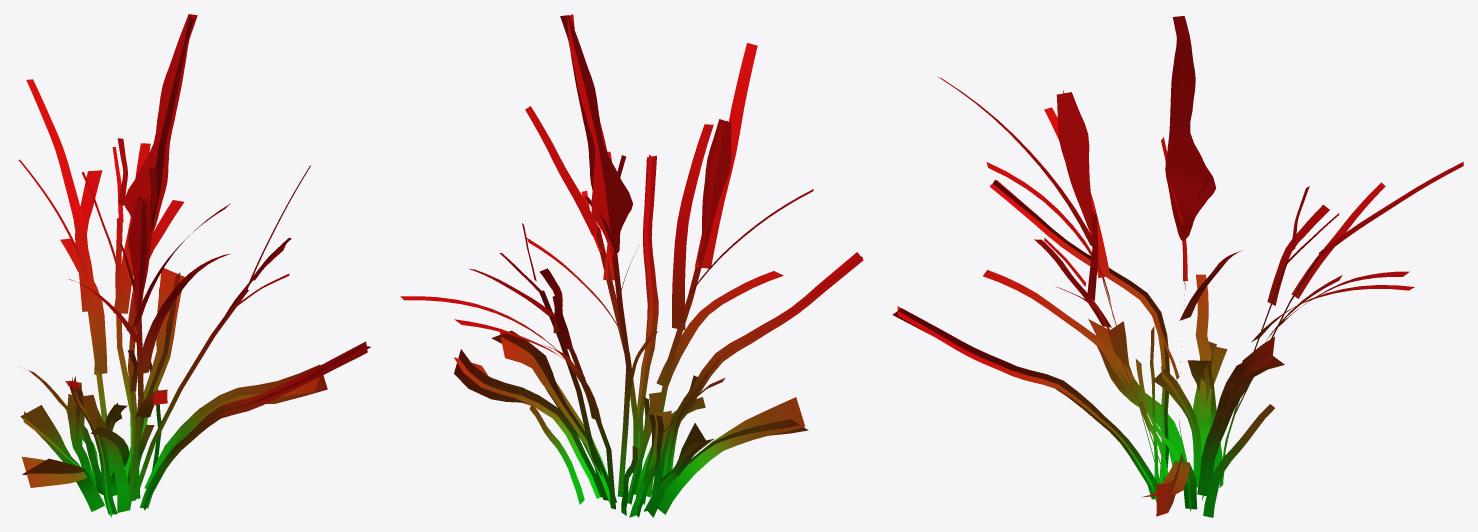
Rendered from slfpffjr_Var6_LOD0.fbx.
The picture shows the model from 3 angles, left to right: view 1: azimuth 30°, elevation 25°; view 2: azimuth 150°, elevation 25°; view 3: azimuth 270°, elevation 25°; orthographic projection. The views are drawn at different scales.
Visible parts, largest first — view 1: _f59d_Var6_LOD0; view 2: _f59d_Var6_LOD0; view 3: _f59d_Var6_LOD0.
Boxes of the visible parts, <box> form: _f59d_Var6_LOD0: <box>18,14,370,517</box>; _f59d_Var6_LOD0: <box>400,14,863,517</box>; _f59d_Var6_LOD0: <box>892,16,1463,517</box>.
Bounding box in the file's own units: 35.24 × 47.64 × 47.52.
